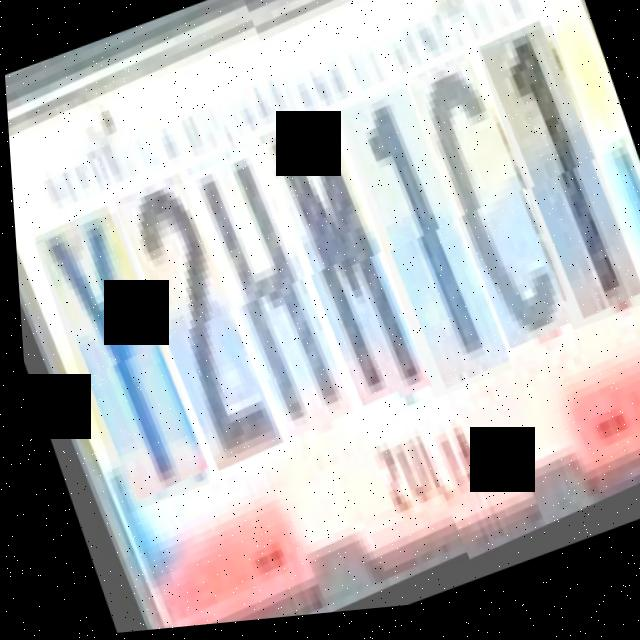1: (333, 85, 507, 412), (475, 29, 640, 346)
2: (110, 177, 282, 495)
C: (402, 59, 570, 376)
H: (183, 147, 355, 466)
M: (256, 117, 428, 436)
Y: (29, 206, 207, 521)
